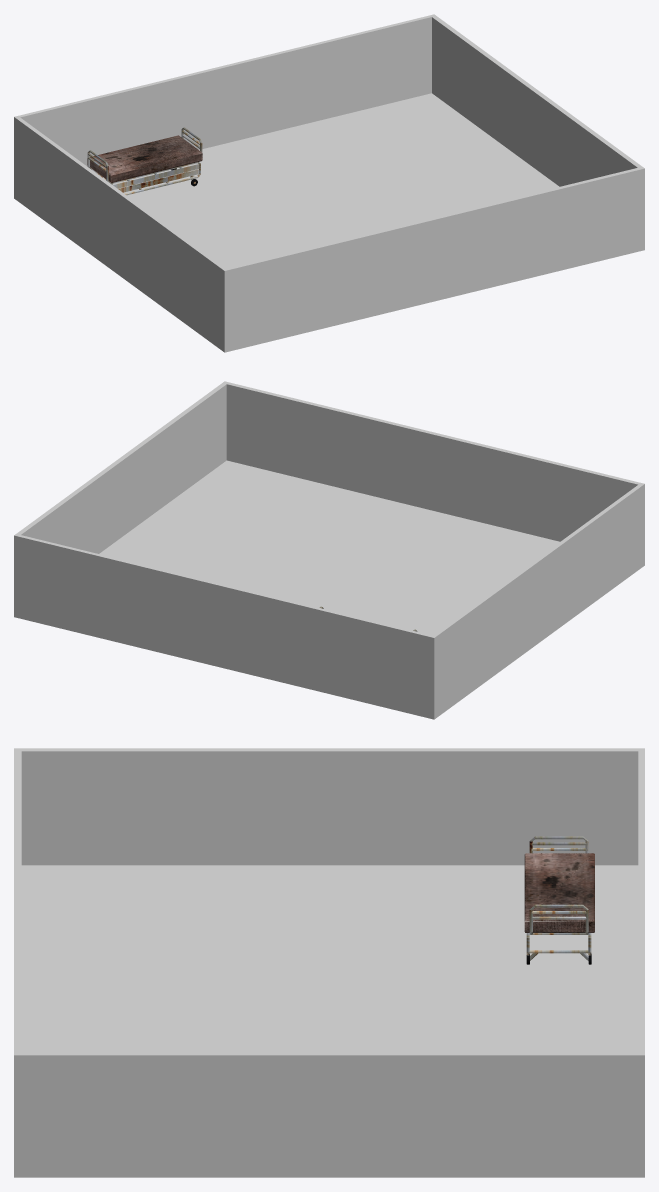
File: map.glb
The picture shows the model from 3 angles, top to bottom: view 1: azimuth 30°, elevation 25°; view 2: azimuth 150°, elevation 25°; view 3: azimuth 270°, elevation 25°; orthographic projection. The views are drawn at different scales.
Parts seen in each view (by area): view 1: Cube, Cube_Cube.002; view 2: Cube; view 3: Cube, Cube_Cube.002.
Boxes of the visible parts, box(x1,y1,x2,y2) form: Cube: box(14, 14, 644, 352); Cube_Cube.002: box(87, 127, 202, 195); Cube: box(14, 381, 644, 719); Cube: box(14, 748, 644, 1177); Cube_Cube.002: box(524, 836, 594, 964).
Size of the model in its own units: 26.14 by 4.85 by 22.7.
Materials: 2 (1 with a texture image).
